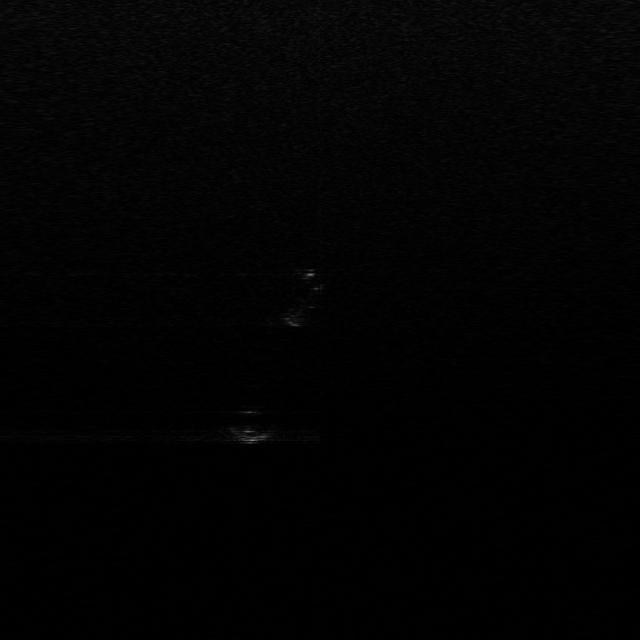ball: (226, 406, 278, 444)
tyre: (282, 267, 324, 327)
